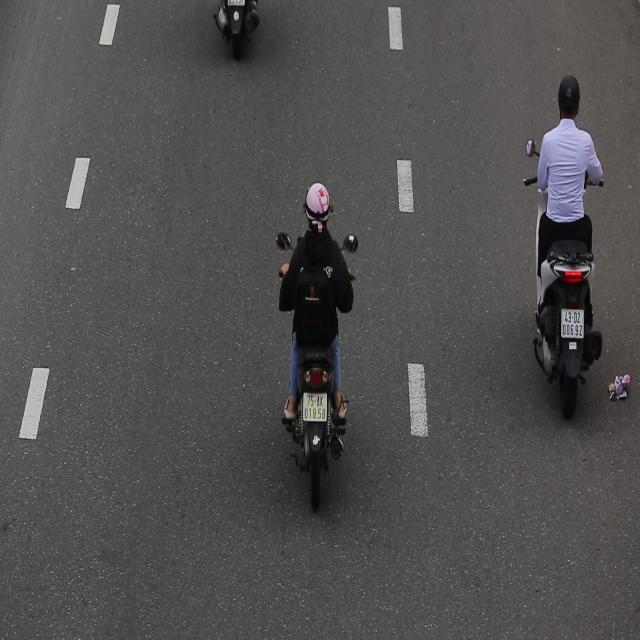motorbike: (516, 59, 618, 435), (266, 166, 365, 511)
